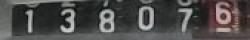digits: (176, 7, 194, 35), (214, 0, 232, 24), (98, 8, 115, 32), (59, 8, 76, 32), (137, 6, 154, 30), (24, 9, 34, 34)
